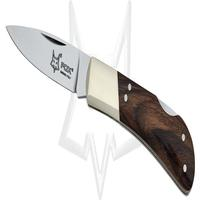knife: (3, 15, 195, 196)
